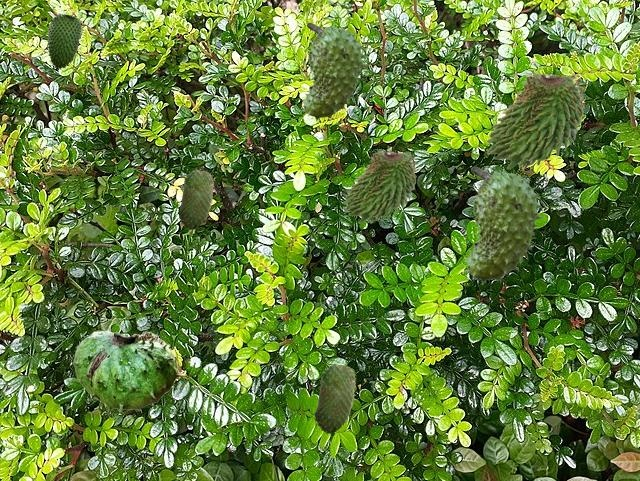guyabano: (485, 69, 584, 168), (463, 166, 544, 284), (72, 330, 179, 414), (300, 22, 367, 121), (342, 148, 416, 222), (314, 363, 355, 433), (178, 169, 213, 229), (47, 13, 80, 68)
